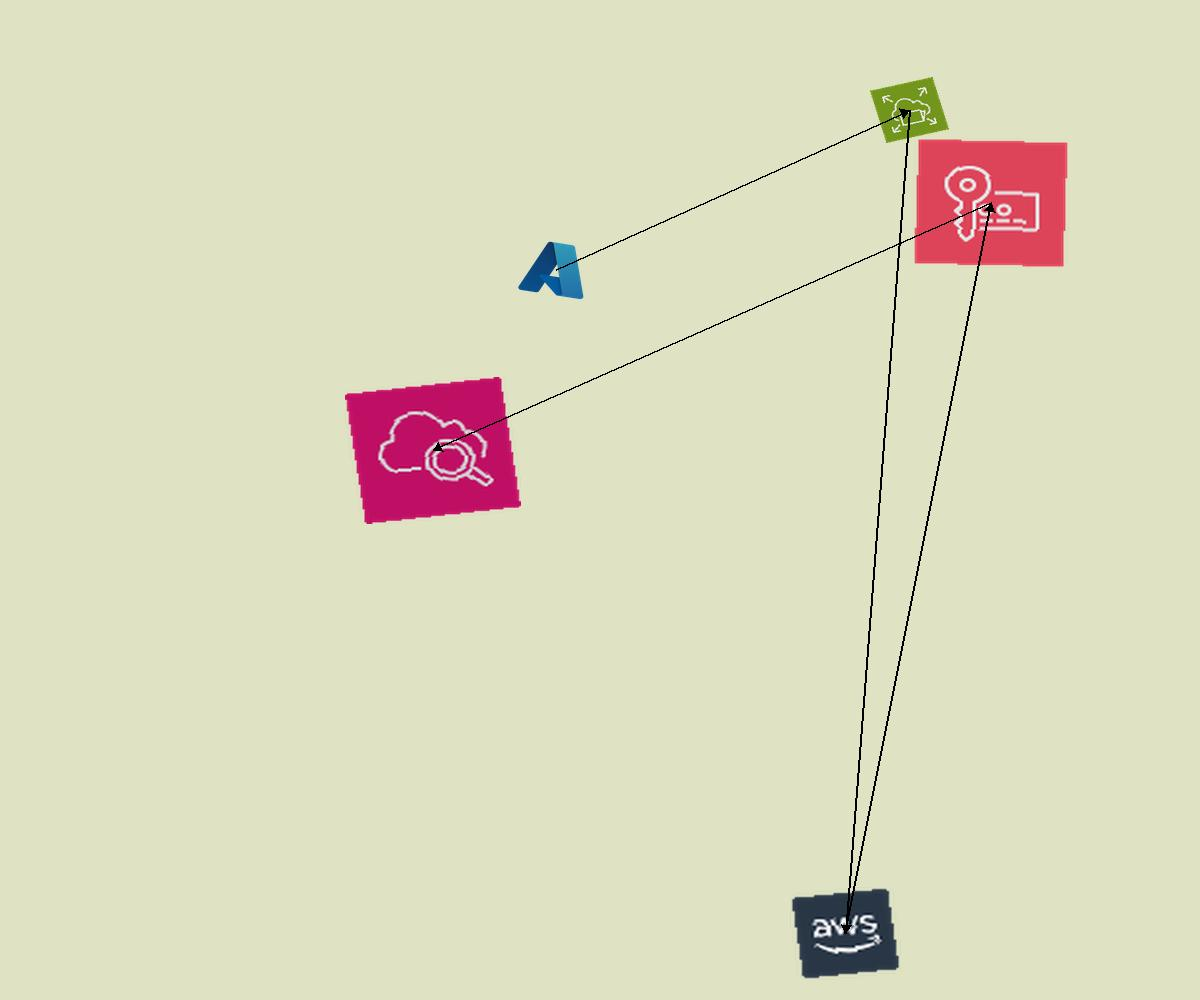AWS-Cloud-logo: (790, 887, 901, 980)
AWS-CloudWatch: (345, 377, 521, 524)
AWS-EFS: (870, 77, 949, 143)
AWS-Key-Management-Service: (913, 138, 1069, 268)
Azure_services: (514, 234, 598, 304)
